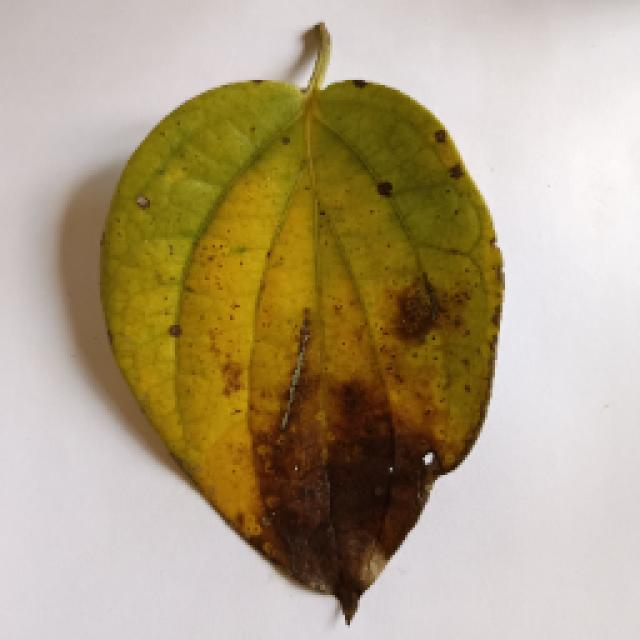slow-decline: (100, 32, 500, 618)
